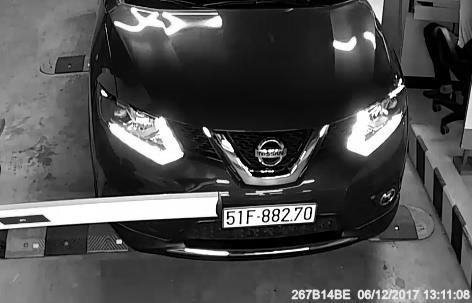License-plate: (217, 198, 334, 238)
